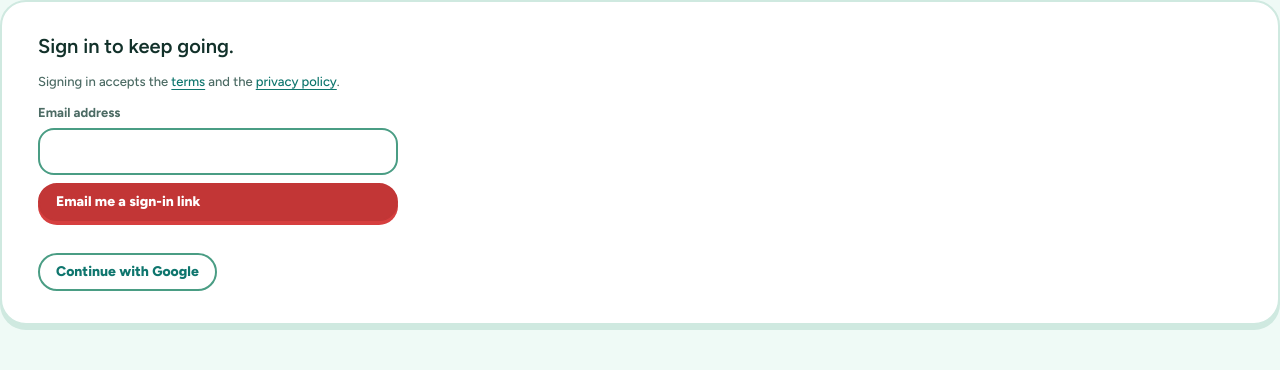
Test case: SignInPanelComponent › resets the widget and shows the server message on a TURNSTILE_FAILED answer
In the field with id "sign-in-email": (218, 152) [38, 128, 398, 175], type "learner@example.com"
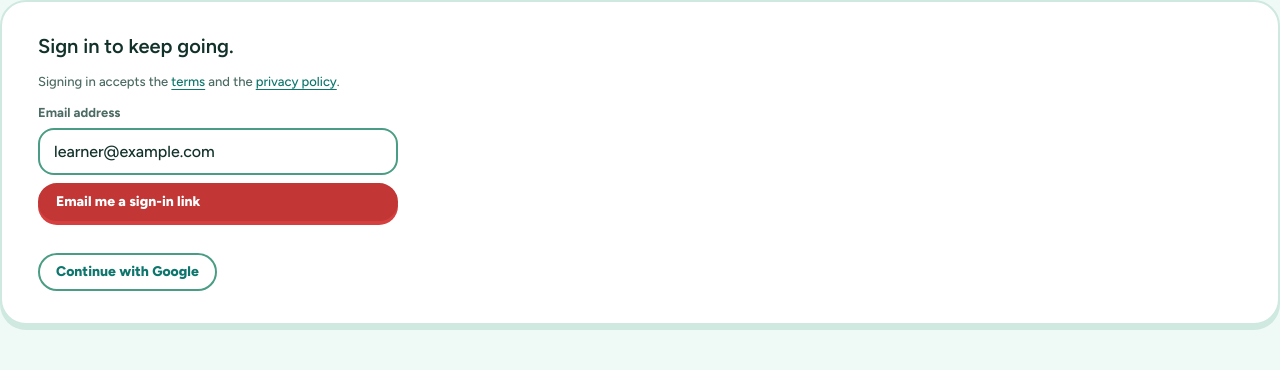
Submit the form, box [38, 105, 398, 221]
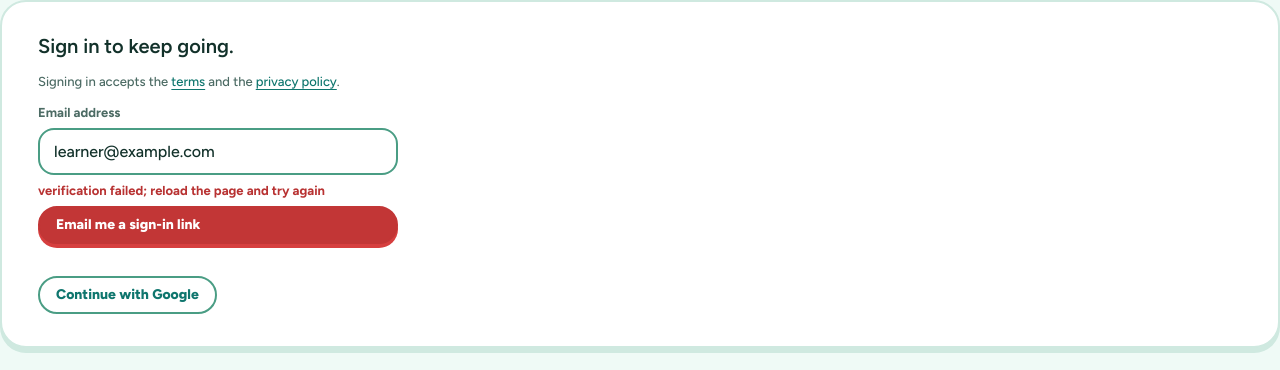
Result: the text "verification failed; reload the page and try again" is shown at [38, 183, 325, 198]
